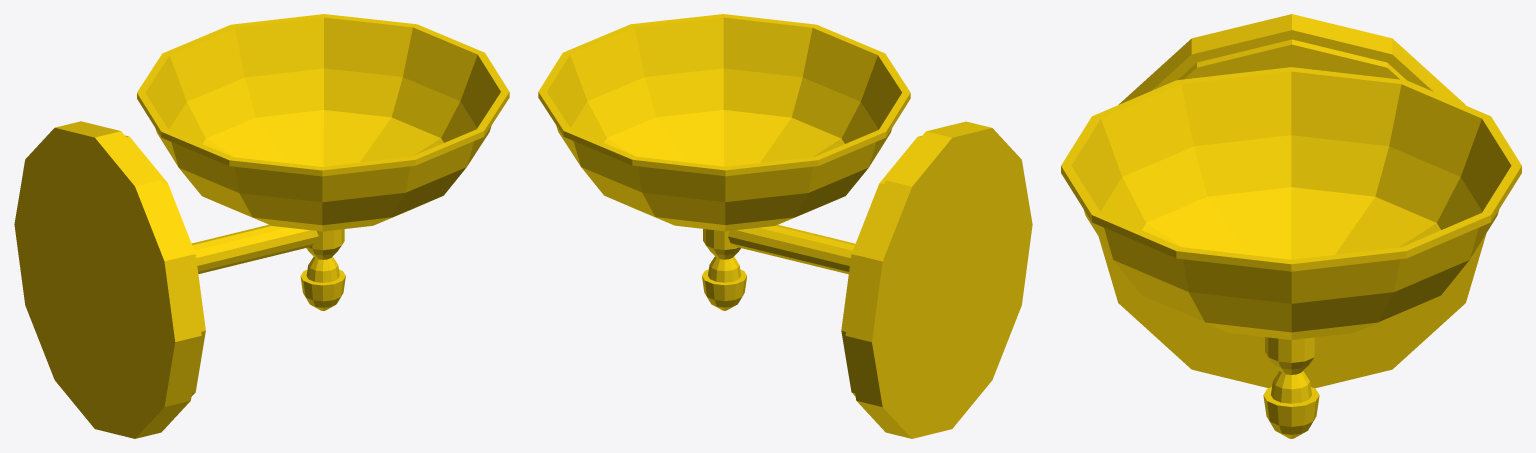
File: SoporteLampara.fbx
3 renders of one model, left to right at view 1: azimuth 30°, elevation 25°; view 2: azimuth 150°, elevation 25°; view 3: azimuth 270°, elevation 25°, orthographic. The views are drawn at different scales.
Parts seen in each view (by area): view 1: SoporteVela; view 2: SoporteVela; view 3: SoporteVela.
Part boxes in pixels (box(x1,y1,x2,y2)): SoporteVela: box(14, 14, 509, 438); SoporteVela: box(538, 14, 1032, 438); SoporteVela: box(1061, 14, 1521, 438).
Bounding box in the file's own units: 73.14 × 52.23 × 59.97.
